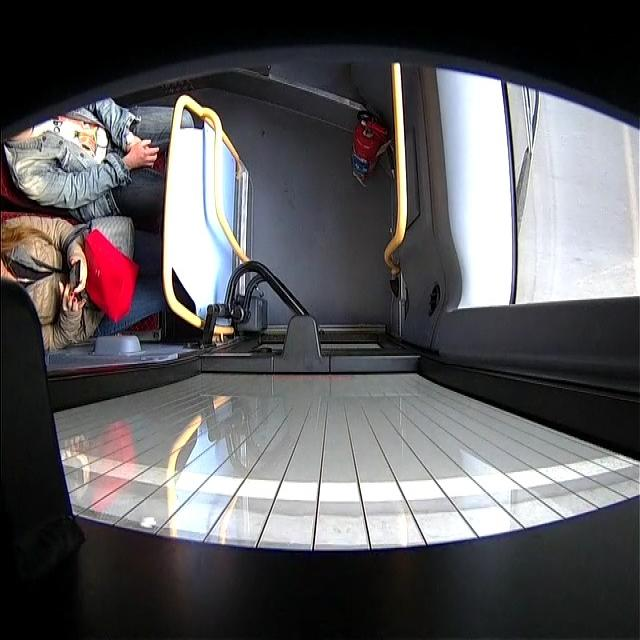bus-door: (10, 371, 640, 616)
